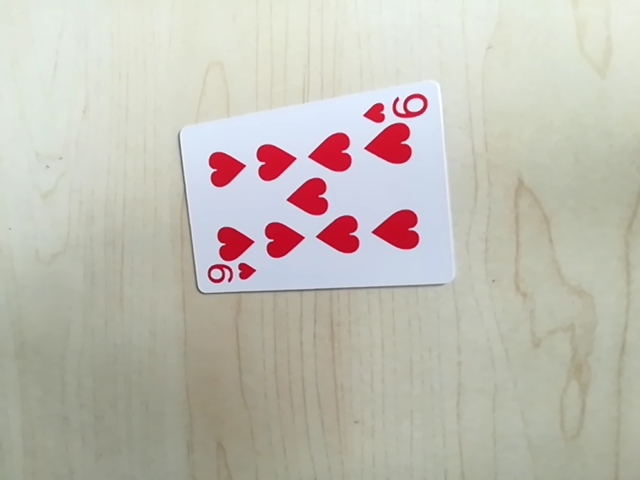hx 9: (360, 87, 432, 126), (201, 260, 259, 291)
